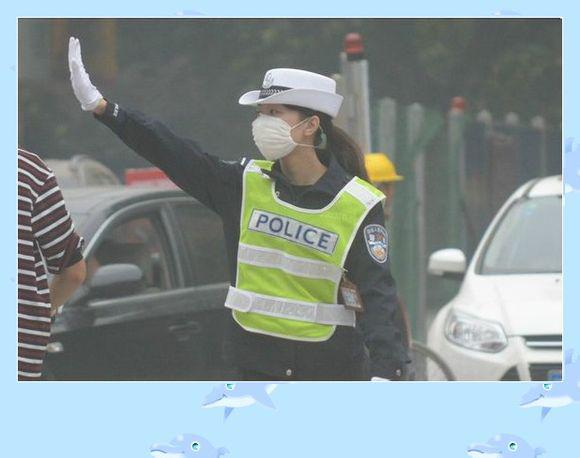OK: (254, 105, 308, 161)
